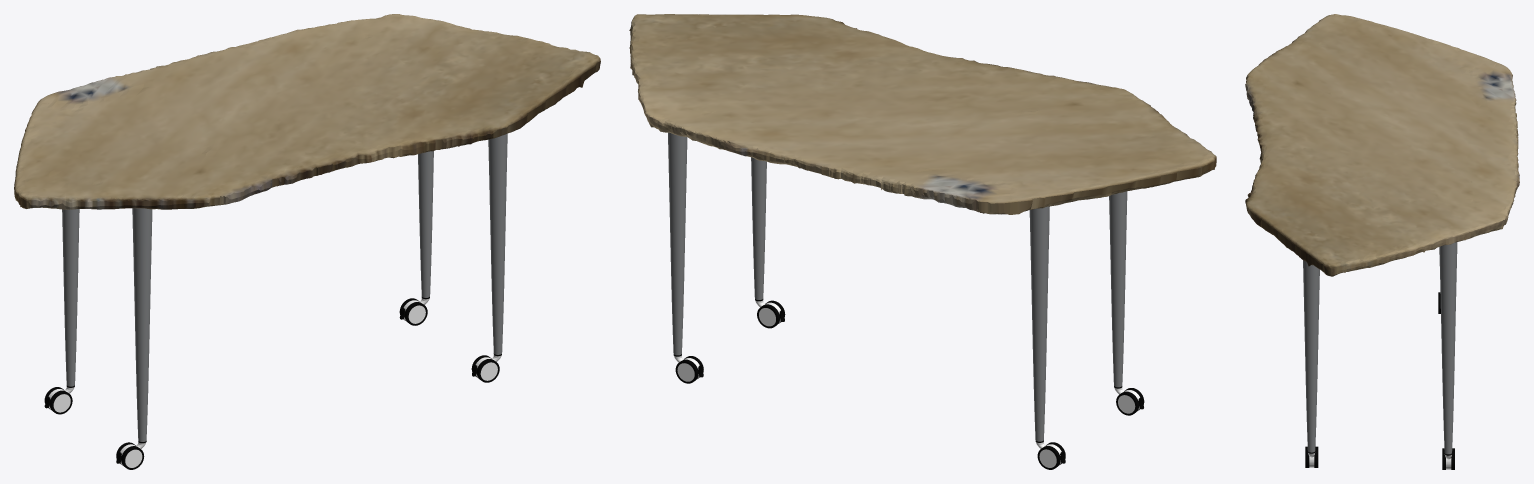
The model's file is table_repaire_normal.fbx.
3 views of the same model, side by side, from view 1: azimuth 30°, elevation 25°; view 2: azimuth 150°, elevation 25°; view 3: azimuth 270°, elevation 25° (orthographic). The views are drawn at different scales.
Visible parts, largest first — view 1: table, tableleg.002, tableleg.001, tableleg.003, tableleg.000; view 2: table, tableleg.003, tableleg.000, tableleg.002, tableleg.001; view 3: table, tableleg.000, tableleg.001.
Boxes of the visible parts, bbox=[...] form: table: bbox=[14, 14, 600, 209]; tableleg.002: bbox=[116, 208, 152, 469]; tableleg.001: bbox=[471, 133, 507, 382]; tableleg.003: bbox=[44, 209, 79, 414]; tableleg.000: bbox=[399, 151, 433, 325]; table: bbox=[629, 14, 1216, 214]; tableleg.003: bbox=[1029, 206, 1065, 469]; tableleg.000: bbox=[668, 132, 703, 383]; tableleg.002: bbox=[1109, 191, 1144, 415]; tableleg.001: bbox=[751, 157, 785, 328]; table: bbox=[1245, 14, 1519, 276]; tableleg.000: bbox=[1439, 242, 1457, 469]; tableleg.001: bbox=[1303, 260, 1319, 467].
Size of the model in its own units: 863 by 408 by 396.
